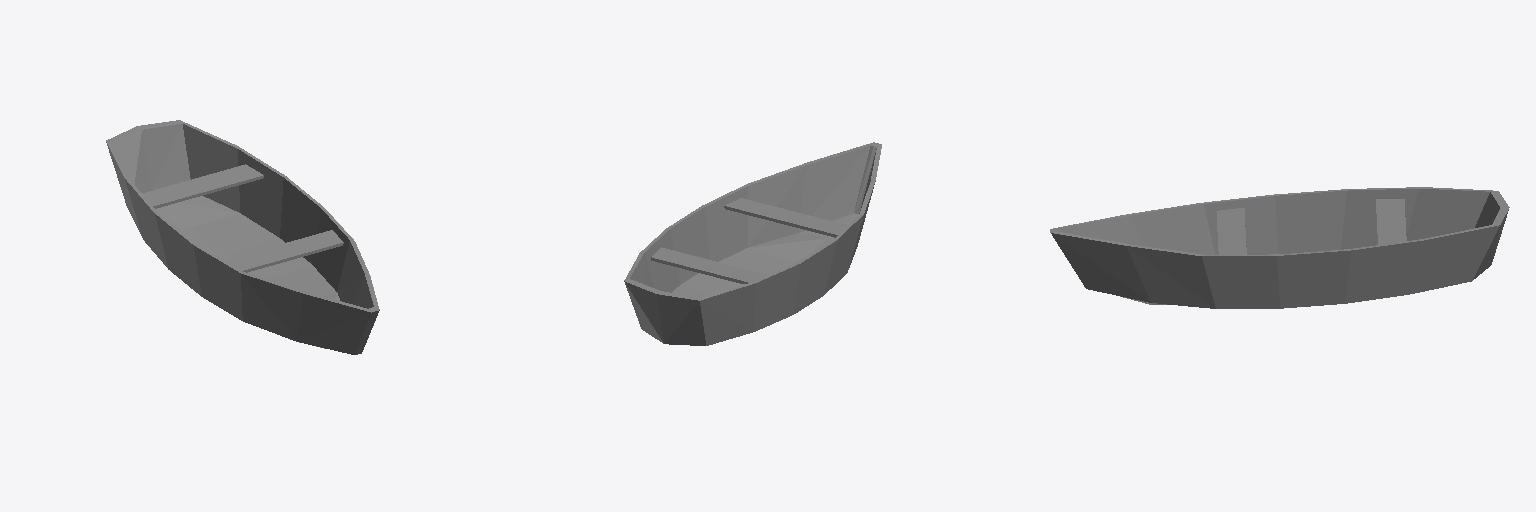
Rendered from smallship2.obj.
The picture shows the model from 3 angles: view 1: azimuth 30°, elevation 25°; view 2: azimuth 150°, elevation 25°; view 3: azimuth 270°, elevation 25°; orthographic projection.
Visible parts, largest first — view 1: Cube, Cube_001; view 2: Cube, Cube_001; view 3: Cube, Cube_001.
Part boxes in pixels (left/top/right/bottom): Cube: left=106, top=120, right=379, bottom=354; Cube_001: left=142, top=164, right=343, bottom=272; Cube: left=624, top=142, right=881, bottom=345; Cube_001: left=651, top=198, right=847, bottom=283; Cube: left=1050, top=187, right=1509, bottom=308; Cube_001: left=1216, top=199, right=1406, bottom=254.
Bounding box in the file's own units: 4.96 × 3.32 × 14.66.